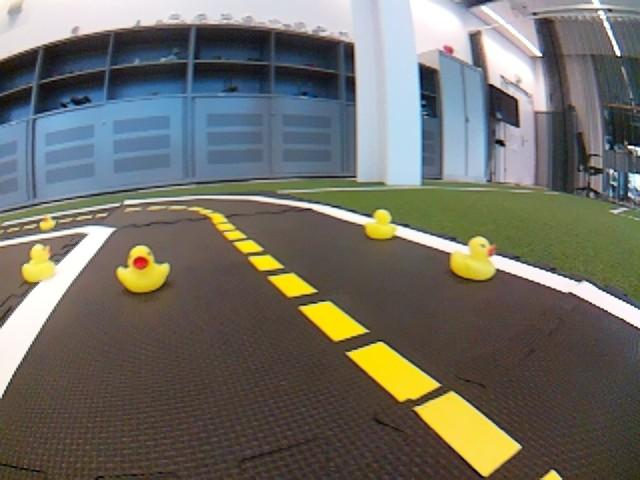Duckies: (114, 245, 170, 293), (448, 237, 498, 281), (22, 244, 56, 283), (364, 211, 395, 239), (39, 215, 56, 230)
